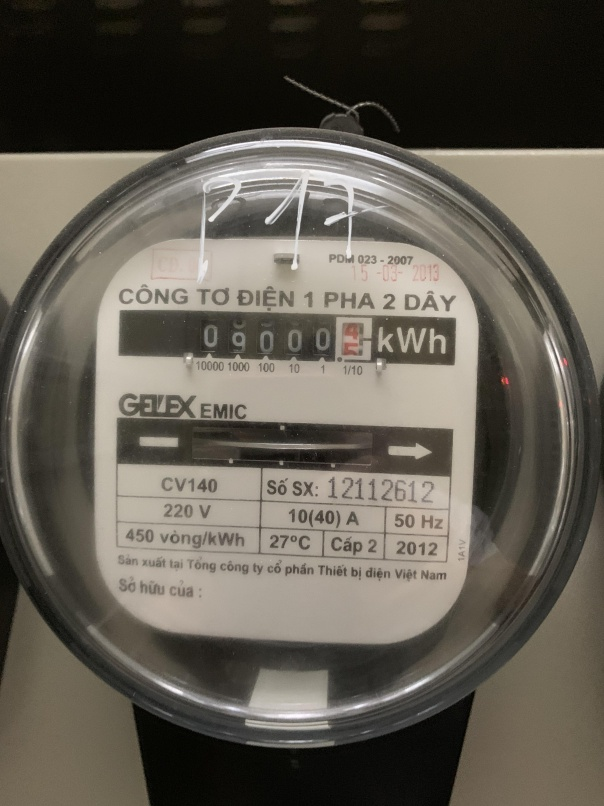counter: (120, 308, 460, 367)
electricity_meter: (7, 127, 601, 747)
